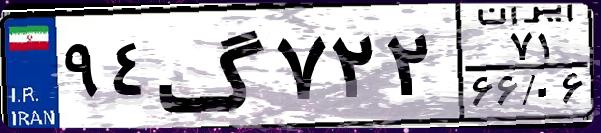0: (535, 70, 560, 125)
1: (537, 27, 568, 80)
2: (385, 28, 445, 110), (330, 28, 385, 110)
4: (110, 28, 156, 98)
6: (560, 70, 590, 125), (470, 70, 495, 125), (495, 70, 520, 125)
7: (270, 28, 330, 110), (508, 27, 537, 80)
9: (57, 26, 110, 100)
گ: (156, 12, 270, 120)
